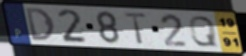2: (57, 8, 90, 44), (159, 13, 190, 49)
8: (95, 10, 121, 45)
D: (24, 7, 57, 42)
Q: (188, 15, 220, 49)
T: (122, 11, 149, 46)
